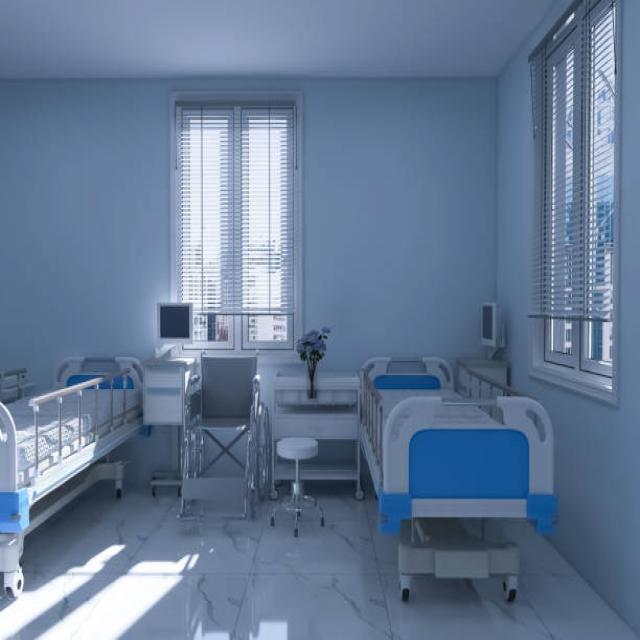Monitor: (145, 292, 206, 348), (471, 288, 507, 362)
bed: (357, 354, 558, 602), (0, 354, 143, 598)
chair: (159, 349, 272, 559)
stool: (261, 421, 330, 548)
